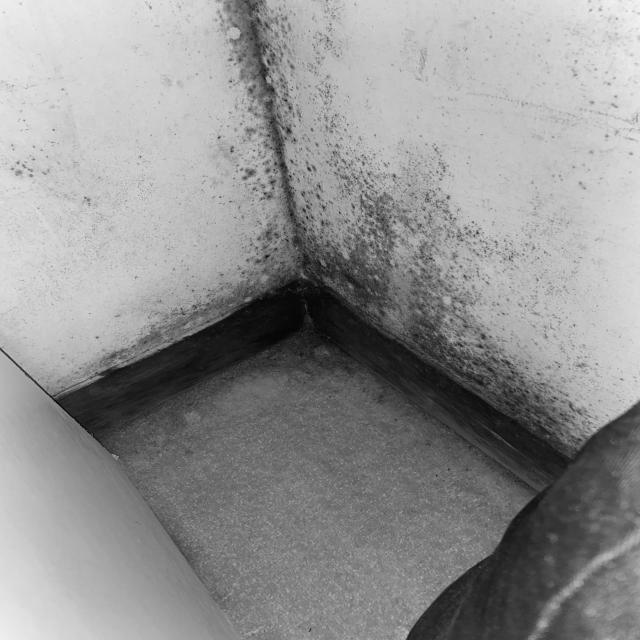stain marks: (290, 0, 640, 330), (0, 0, 290, 377), (405, 326, 617, 454)
